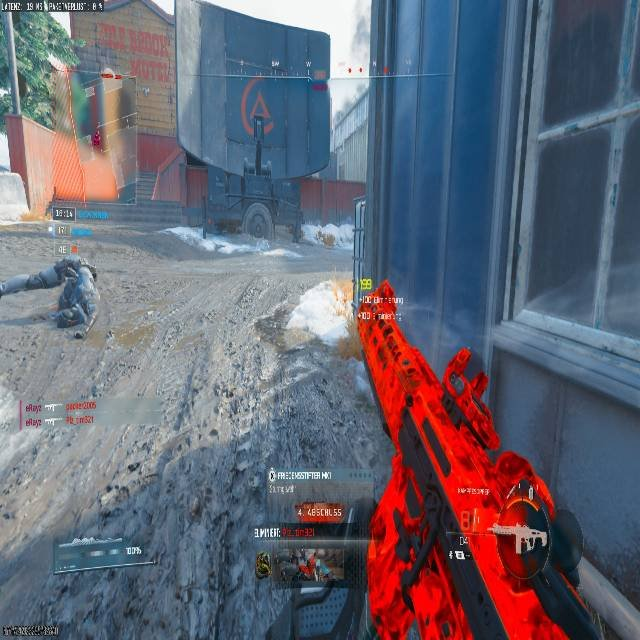player: (1, 255, 97, 339)
